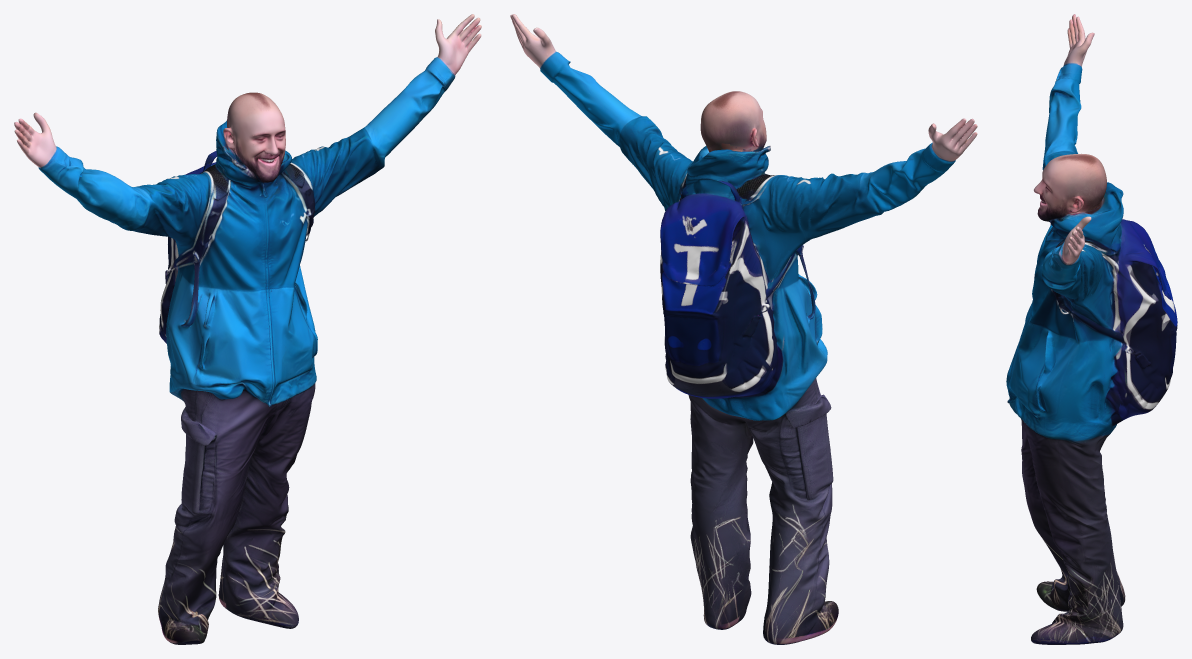
3 views of the same model, side by side, from view 1: azimuth 30°, elevation 25°; view 2: azimuth 150°, elevation 25°; view 3: azimuth 270°, elevation 25° (orthographic). The views are drawn at different scales.
Bounding box in the file's own units: 1.67 × 1.9 × 0.5707.
Materials: 1 (1 with a texture image).
